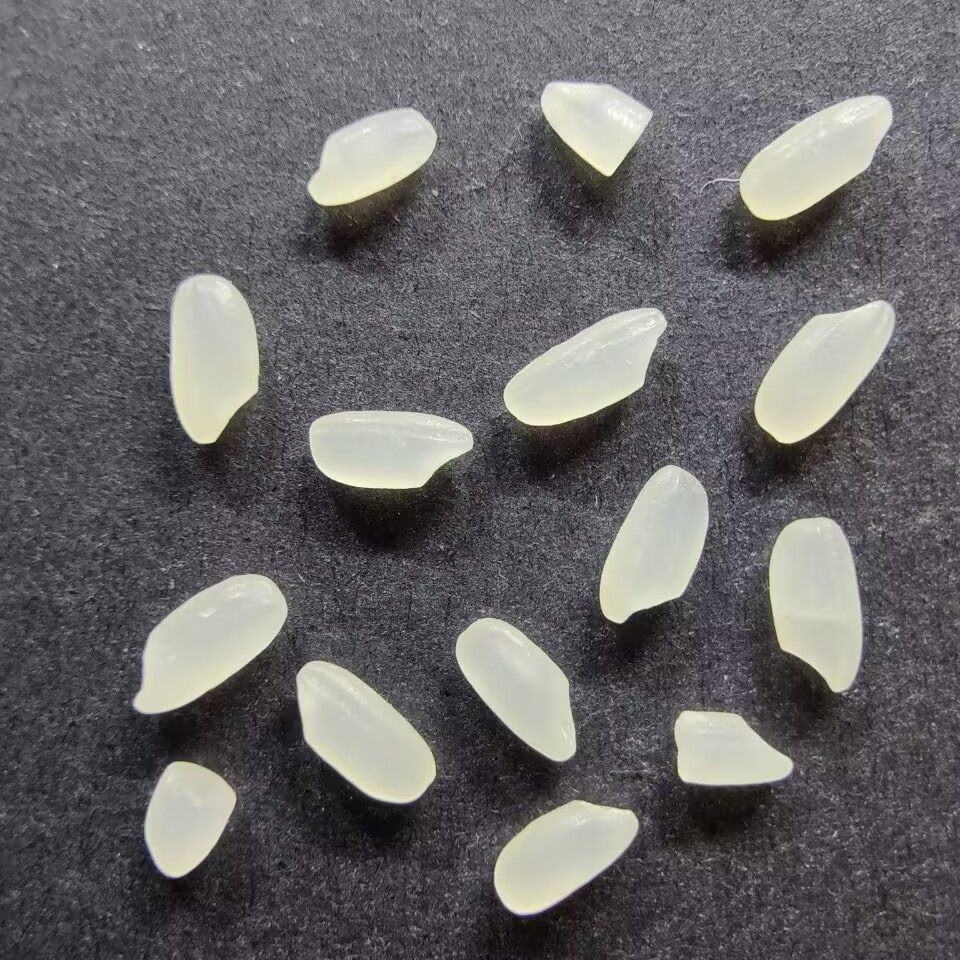broken: (141, 760, 239, 880), (538, 79, 655, 179), (672, 704, 796, 788)
rice: (130, 572, 287, 715), (751, 297, 898, 445), (293, 658, 437, 805), (500, 303, 668, 427), (736, 93, 894, 222), (453, 615, 580, 764), (596, 463, 711, 624), (766, 515, 864, 695), (491, 799, 640, 916), (166, 273, 261, 446), (306, 407, 475, 490), (305, 107, 438, 207)
